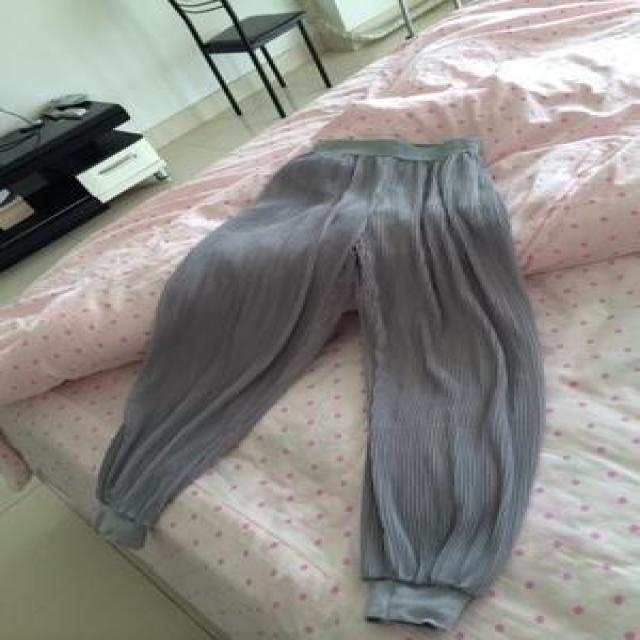trousers: (96, 138, 542, 629)
